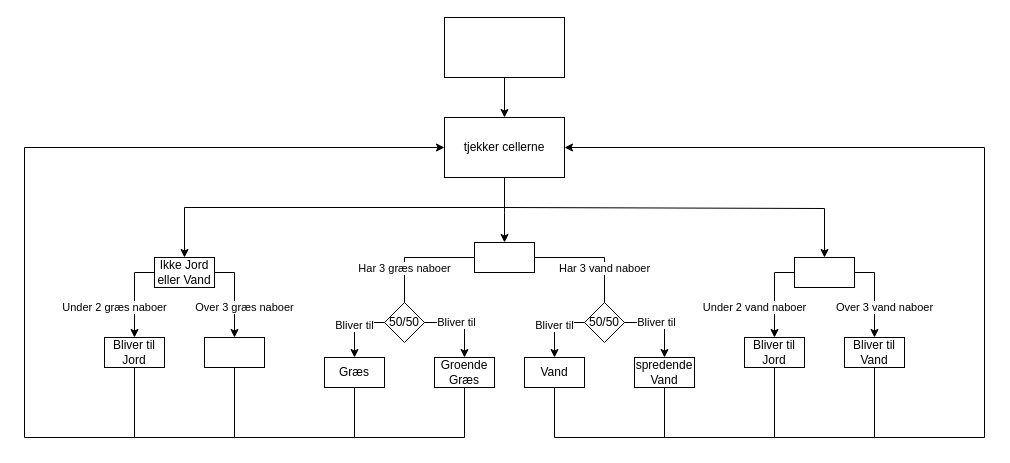
Some shapes in this 1010 by 463 pixel diagram are drawn without their labels. Each missing label, with the centre of its shape:
Bliver til Græs: (x=234, y=352)
Er ikke Jord: (x=824, y=272)
Er Jord: (x=504, y=257)
Programmet starter: (x=504, y=47)
